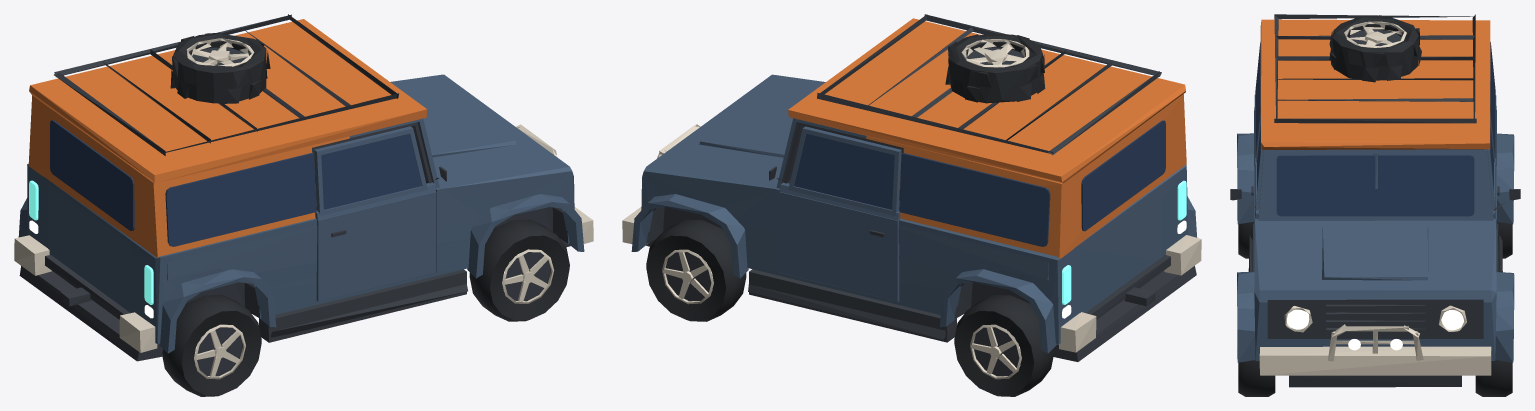
The picture shows the model from 3 angles, left to right: view 1: azimuth 30°, elevation 25°; view 2: azimuth 150°, elevation 25°; view 3: azimuth 270°, elevation 25°; orthographic projection. The views are drawn at different scales.
Visible parts, largest first — view 1: G25_body, door-right, wheel-front-right, wheel-rear-right; view 2: G25_body, door-left, wheel-front-left, wheel-rear-left; view 3: G25_body, wheel-front-right, wheel-front-left, door-right, door-left, wheel-rear-right, wheel-rear-left.
Part boxes in pixels (x1,y1,x2,y2): G25_body: (14, 14, 593, 361); door-right: (312, 122, 436, 301); wheel-front-right: (469, 219, 569, 321); wheel-rear-right: (162, 294, 261, 396); G25_body: (622, 14, 1201, 361); door-left: (779, 122, 903, 301); wheel-front-left: (646, 219, 746, 321); wheel-rear-left: (954, 294, 1053, 396); G25_body: (1230, 14, 1520, 387); wheel-front-right: (1238, 360, 1275, 396); wheel-front-left: (1475, 360, 1512, 396); door-right: (1251, 112, 1263, 271); door-left: (1487, 111, 1499, 271); wheel-rear-right: (1238, 222, 1253, 258); wheel-rear-left: (1497, 222, 1512, 258).
Size of the model in its own units: 4.09 by 2.27 by 2.35.
